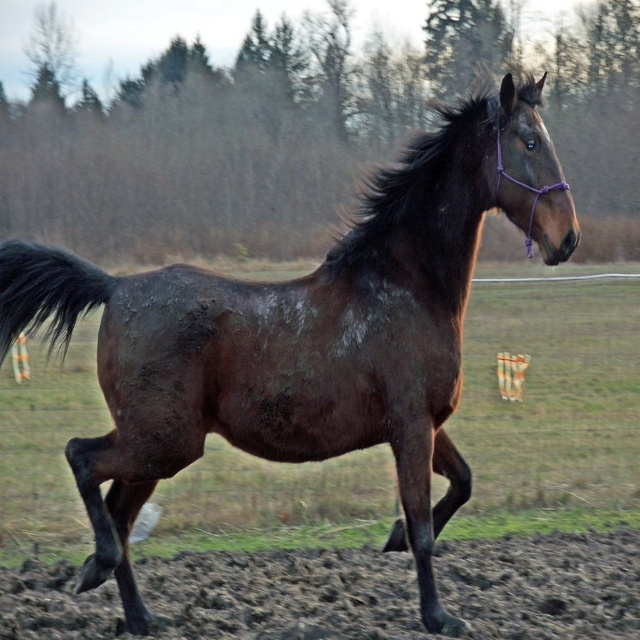Horse: (0, 55, 582, 639)
